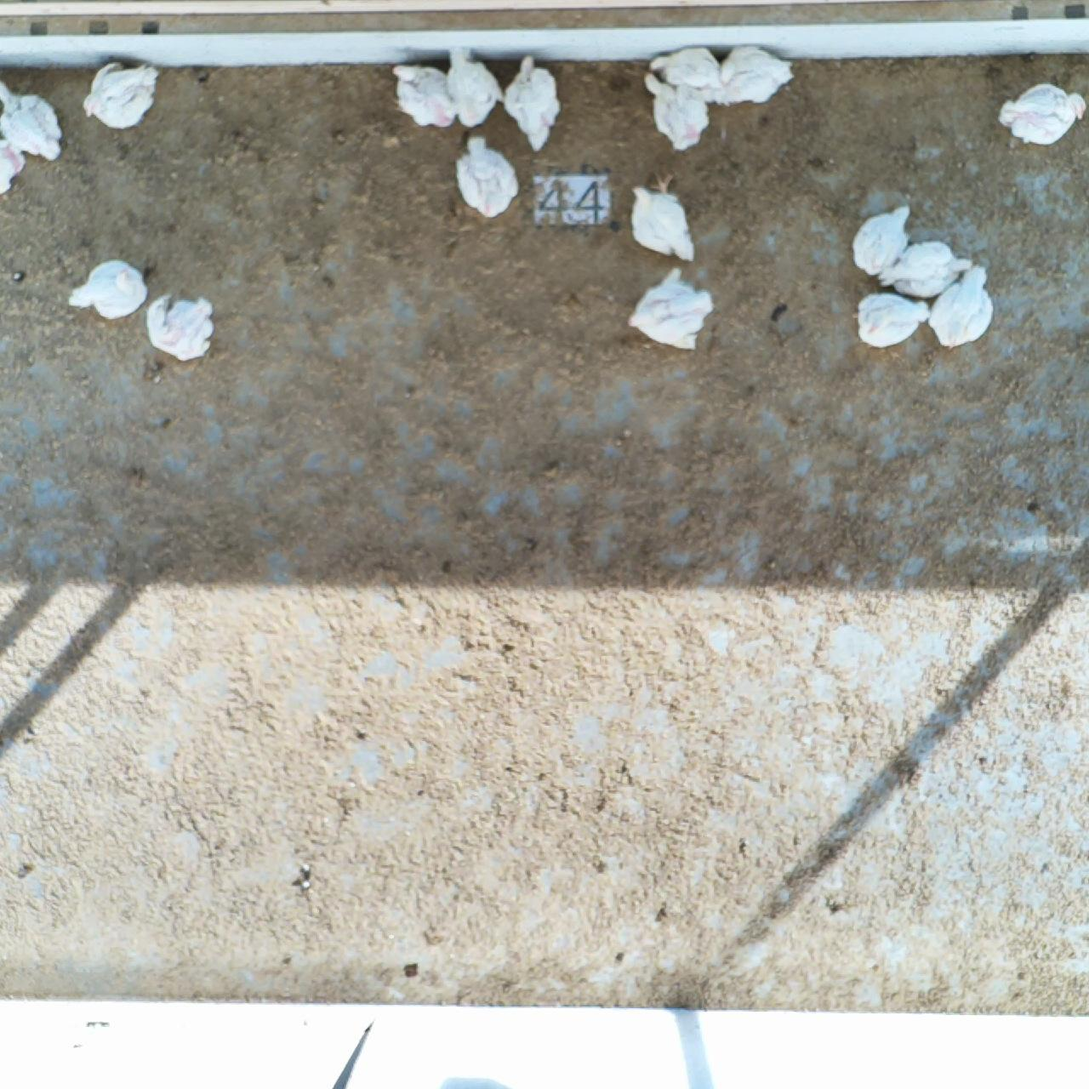chicken: (629, 269, 710, 352), (630, 180, 696, 264), (503, 56, 561, 151), (712, 42, 793, 110), (999, 82, 1086, 145), (641, 67, 707, 150), (79, 60, 154, 132), (927, 269, 991, 350), (455, 135, 518, 216), (1, 79, 62, 160), (441, 47, 499, 127), (144, 294, 211, 363), (648, 48, 725, 108), (68, 263, 147, 320), (887, 242, 970, 296), (850, 204, 906, 283), (856, 296, 930, 346), (395, 66, 451, 131)
